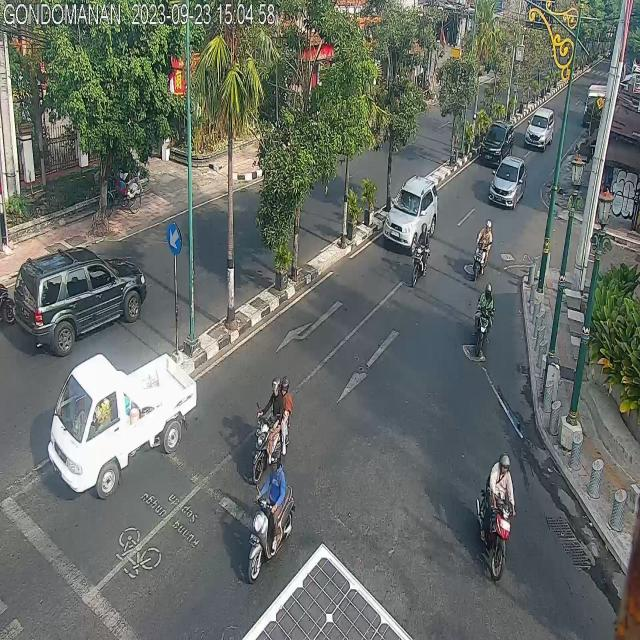car: (9, 244, 155, 350), (382, 176, 438, 256), (486, 153, 526, 214), (524, 102, 555, 156), (477, 116, 510, 166)
motorcycle: (247, 439, 299, 585), (475, 451, 515, 582), (254, 379, 290, 485), (474, 291, 497, 361), (474, 218, 493, 284), (413, 228, 430, 284)
truck: (48, 352, 196, 494)
